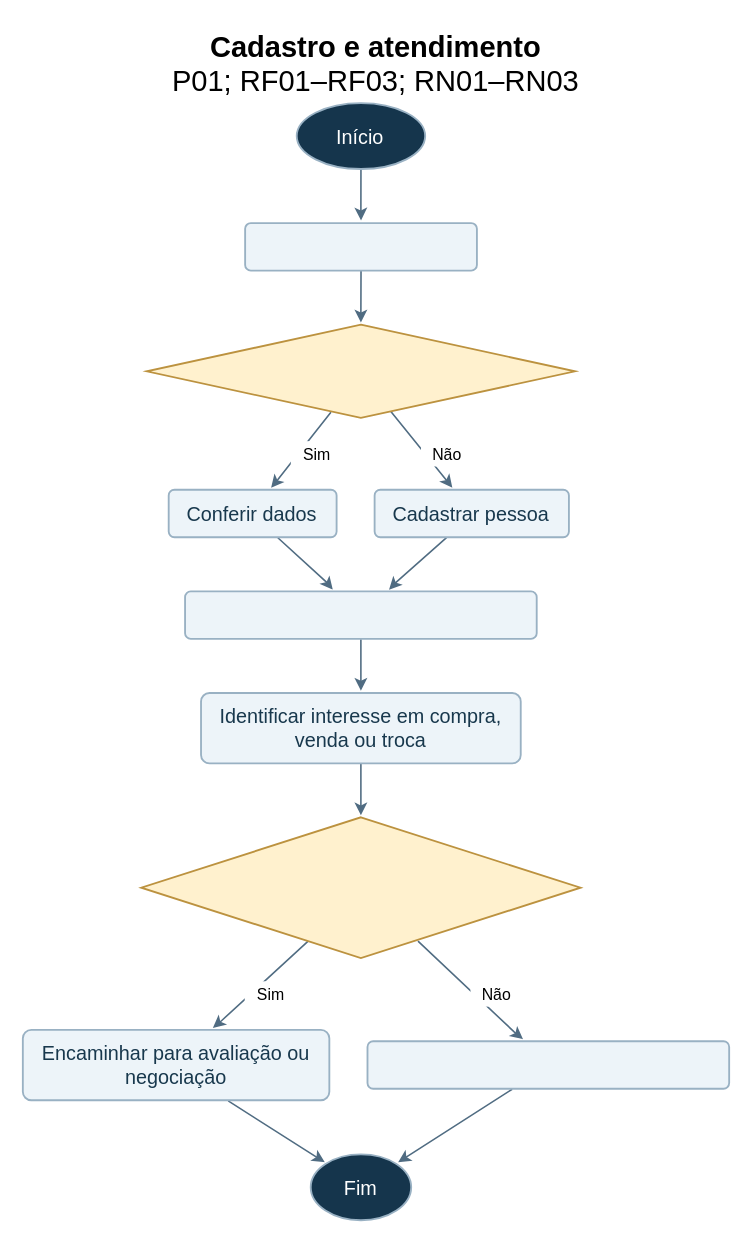
This 754x1245 diagram has some shape labels left out. The box of each missing label's shape, as (x1, y1, x2, y2) in pixels:
Atualizar andamento do atendimento: (366, 1040, 729, 1089)
Cadastro existente?: (145, 323, 575, 418)
Existe proposta para prosseguir?: (140, 816, 581, 958)
Identificar interessado: (244, 221, 477, 271)
Registrar atendimento e funcionário: (183, 590, 537, 639)
